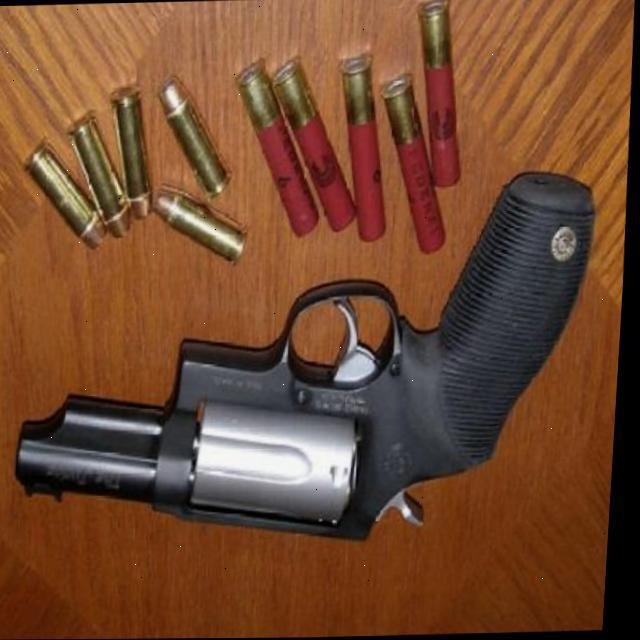gun: (8, 169, 608, 552)
